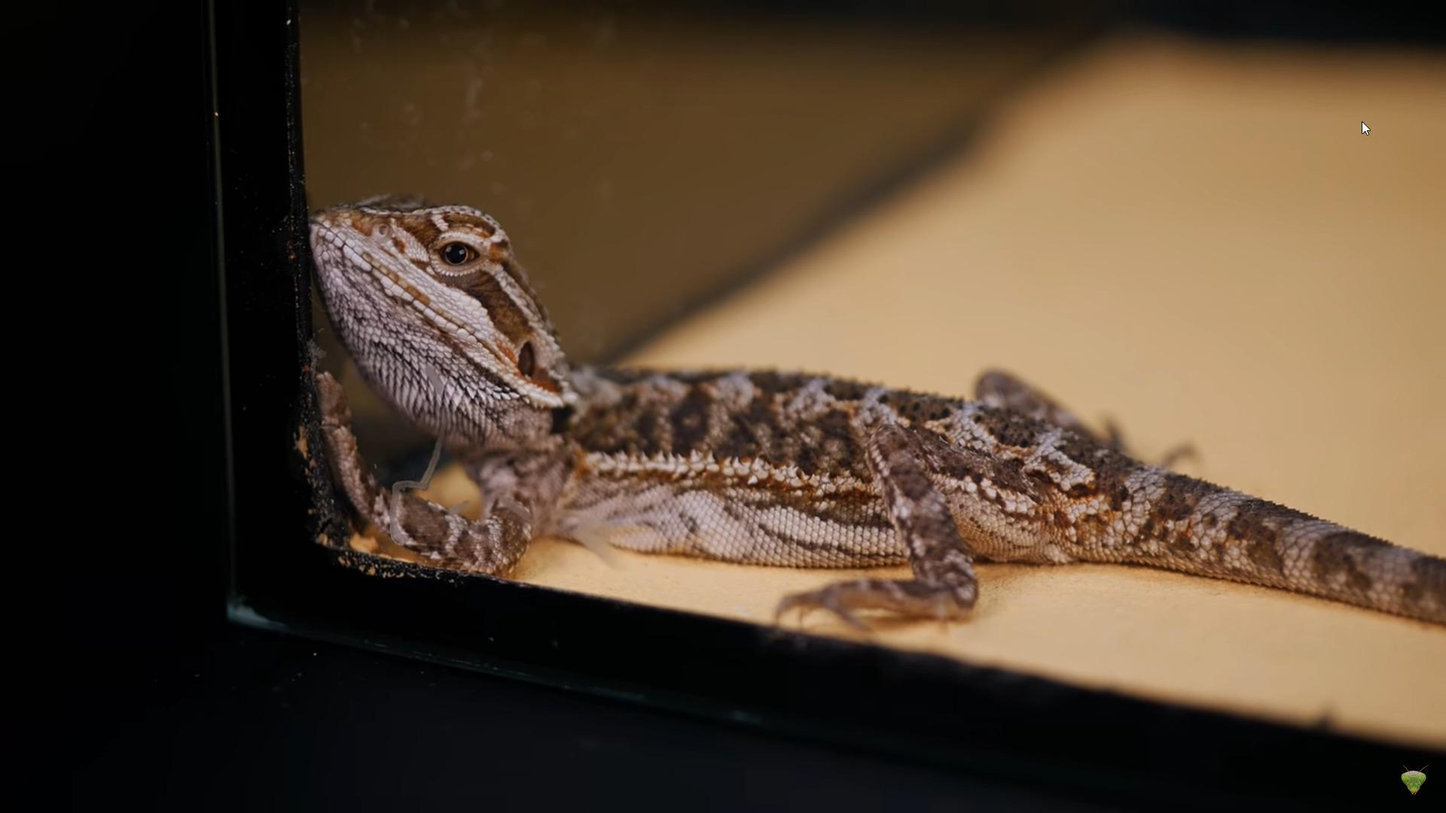lizard: (297, 170, 1403, 648)
